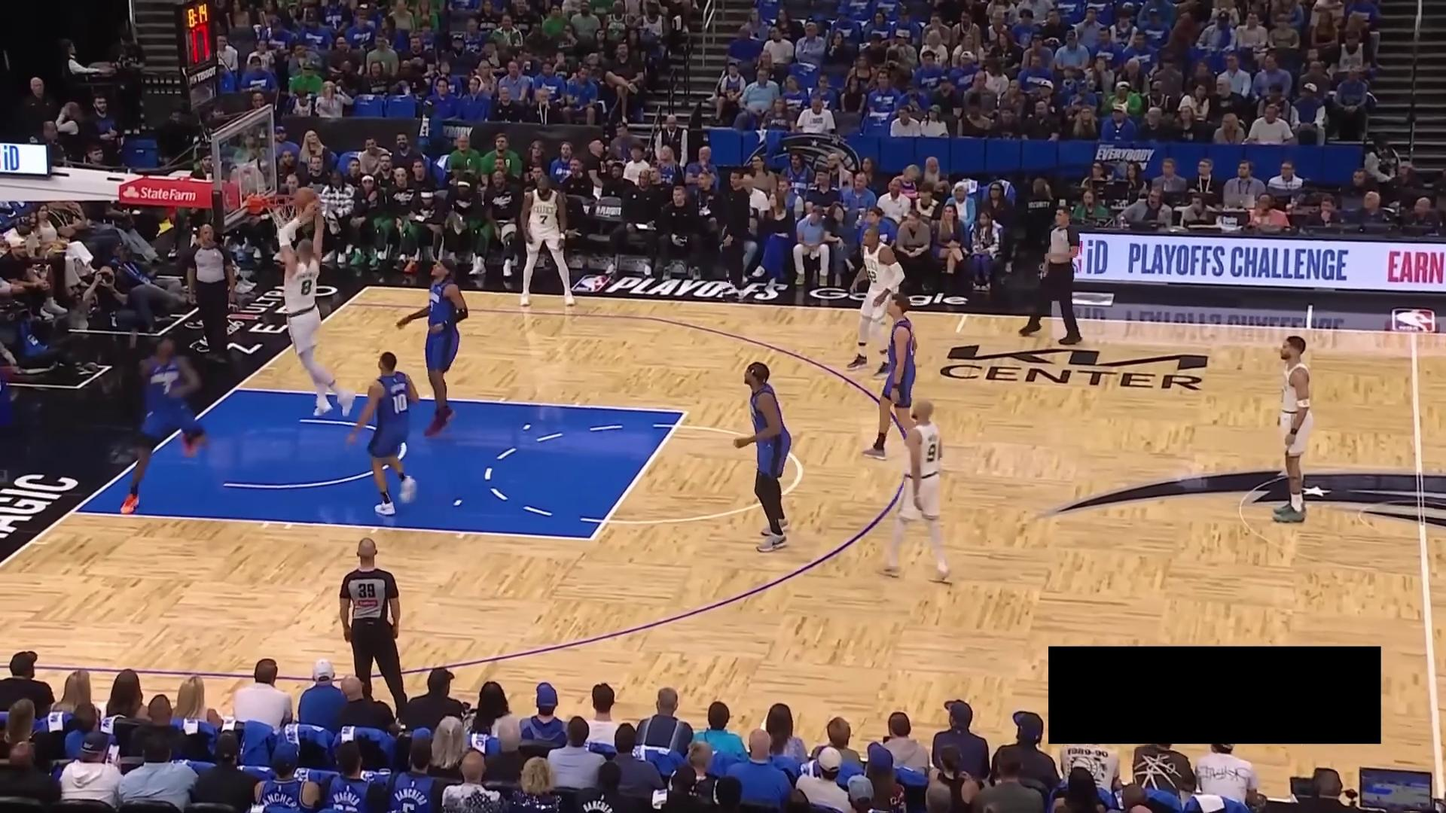ball: (294, 187, 319, 210)
number: (393, 393, 409, 414), (926, 443, 939, 462), (300, 278, 313, 296), (866, 268, 877, 283), (539, 214, 548, 224)
player: (118, 332, 210, 514), (875, 399, 951, 586), (342, 346, 424, 517), (399, 255, 470, 434), (731, 358, 795, 555), (859, 289, 931, 464), (845, 225, 906, 381), (1271, 328, 1319, 524), (520, 171, 578, 309)
player-layup-dunk: (276, 181, 358, 419)
referee: (336, 534, 417, 710), (1017, 203, 1087, 345), (183, 221, 240, 369)
rim: (263, 192, 303, 210)
